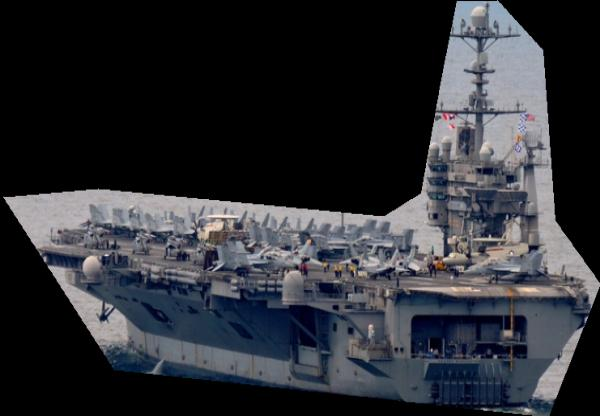Aircraft Carrier: (3, 0, 600, 416)
